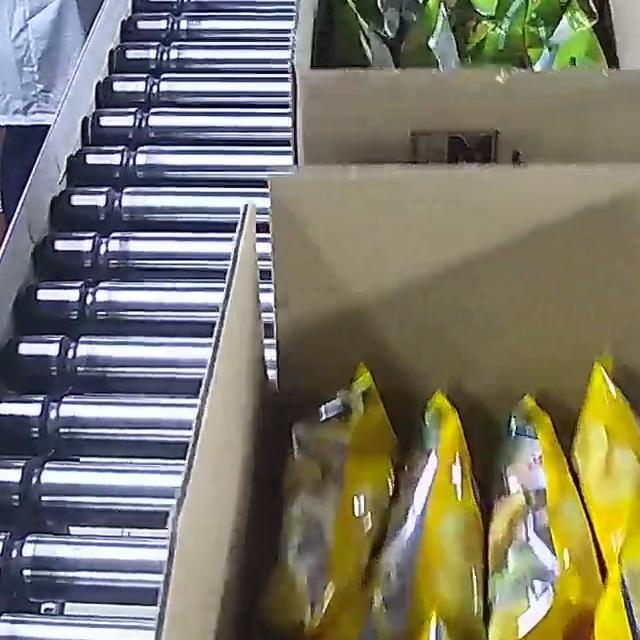salted: (270, 340, 640, 640)
yogurt: (340, 0, 640, 70)
